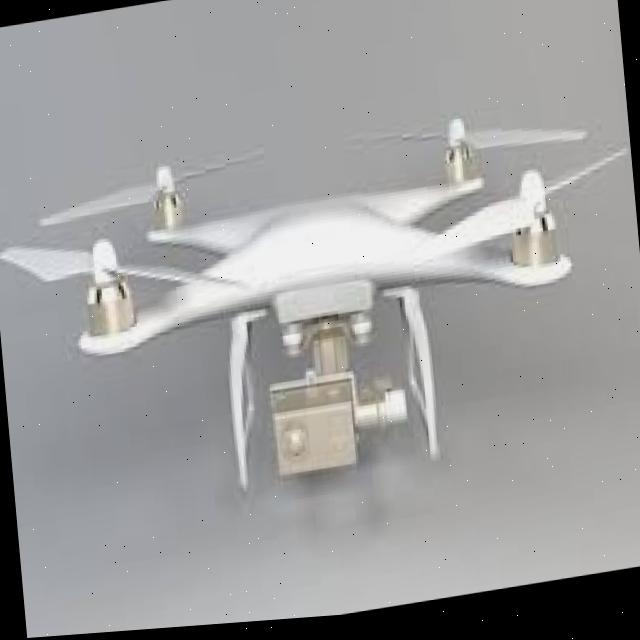drone: (0, 78, 640, 538)
